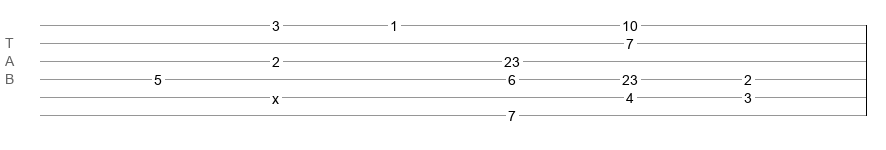1: (390, 18, 398, 28)
10: (622, 18, 638, 28)
2: (272, 54, 280, 64), (744, 72, 752, 82)
23: (504, 54, 520, 64), (622, 72, 638, 82)
3: (272, 18, 280, 28), (744, 90, 752, 100)
4: (626, 90, 634, 100)
5: (154, 72, 162, 82)
6: (508, 72, 516, 82)
7: (508, 108, 516, 118), (626, 36, 634, 46)
x: (272, 91, 279, 99)
